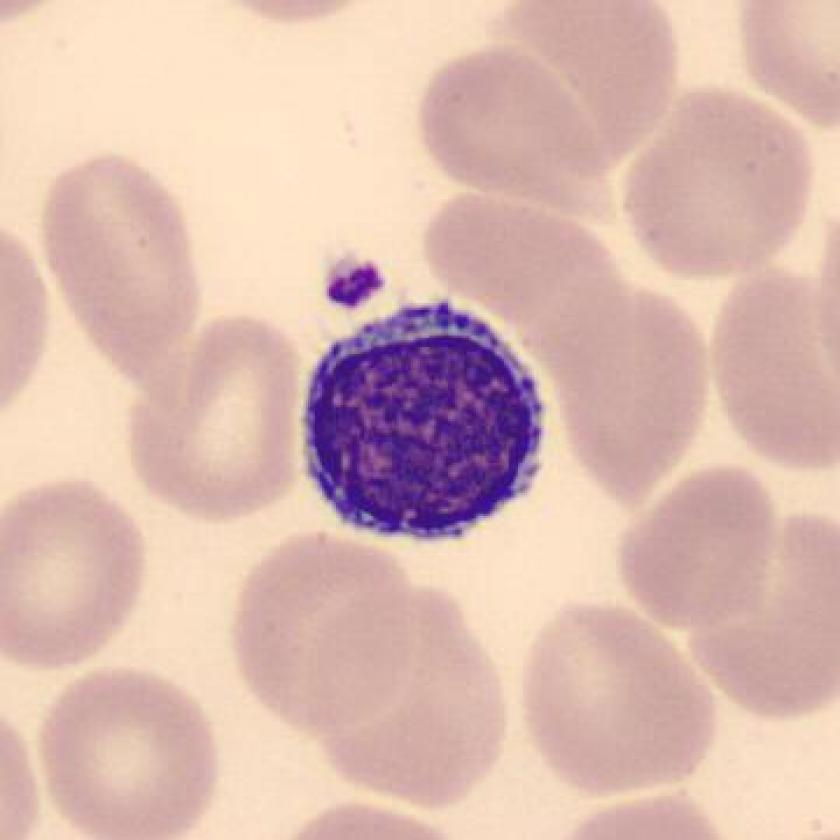lymphocyte: (283, 291, 561, 557)
